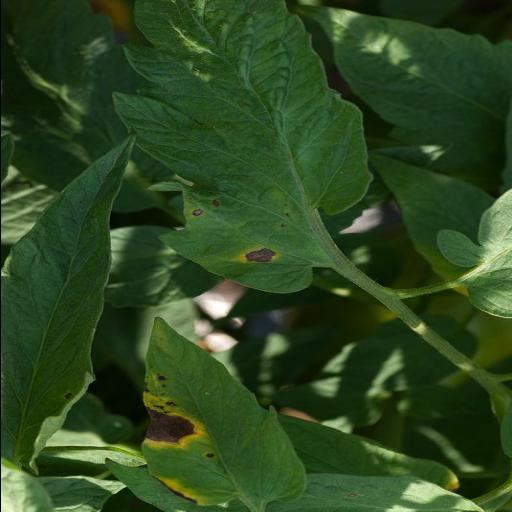Early Blight: (110, 0, 375, 292), (138, 314, 312, 506)
